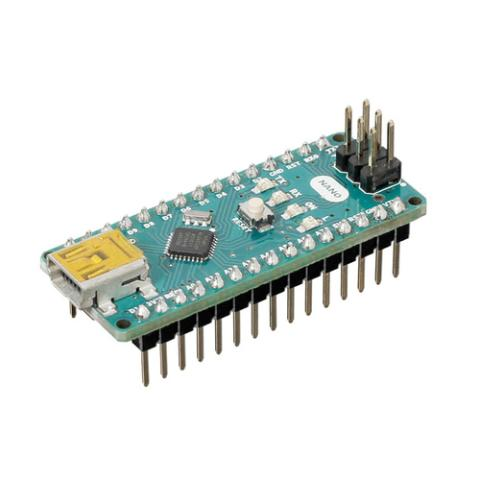Arduino-Nano: (36, 94, 434, 392)
